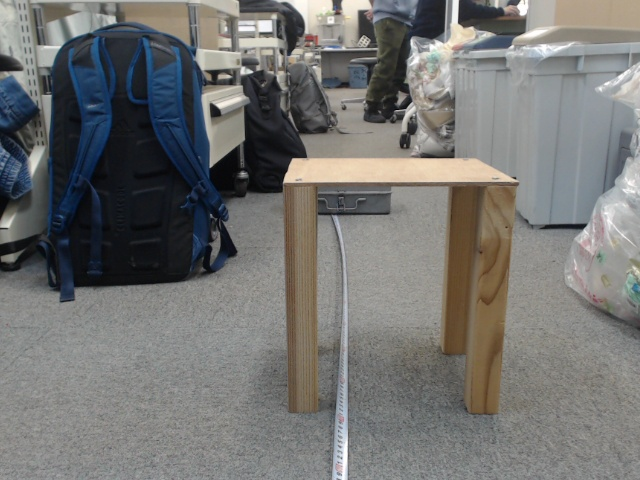desk: (289, 126, 521, 405)
